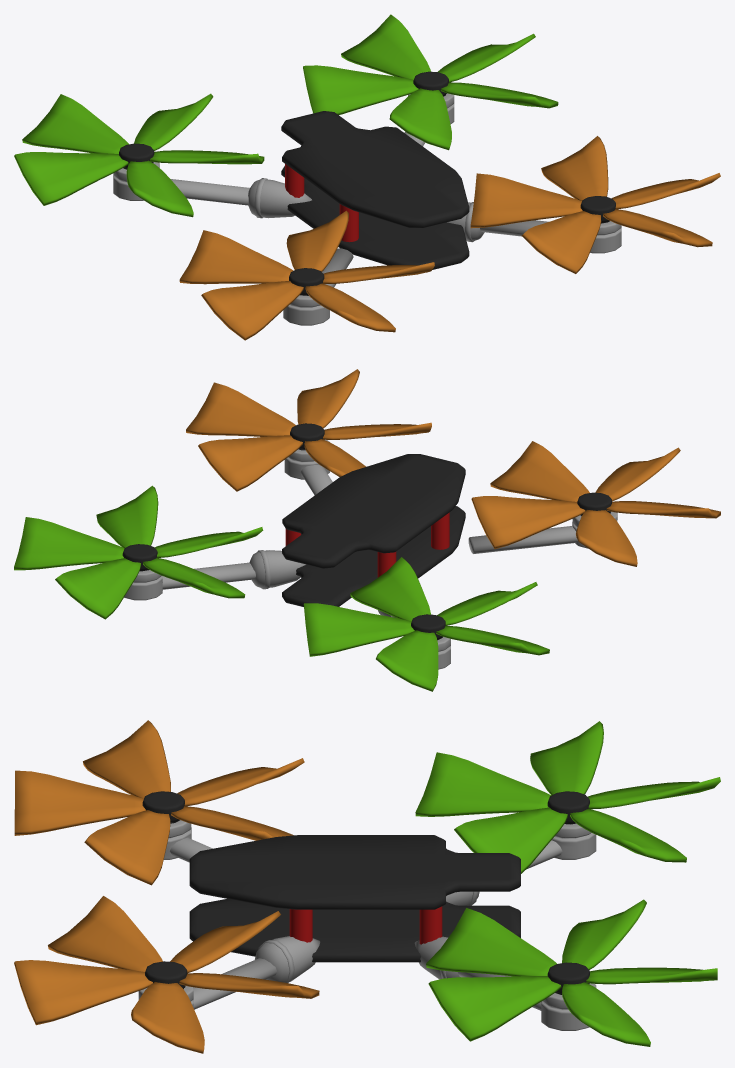
The model's file is Drone.FBX.
3 views of the same model, one above another, from view 1: azimuth 30°, elevation 25°; view 2: azimuth 150°, elevation 25°; view 3: azimuth 270°, elevation 25° (orthographic). The views are drawn at different scales.
Visible parts, largest first — view 1: Drone; view 2: Drone; view 3: Drone.
Part boxes in pixels (<box>): Drone: <box>14,14,720,340</box>; Drone: <box>14,369,720,691</box>; Drone: <box>14,720,720,1053</box>.
Size of the model in its own units: 310 by 37.93 by 309.
